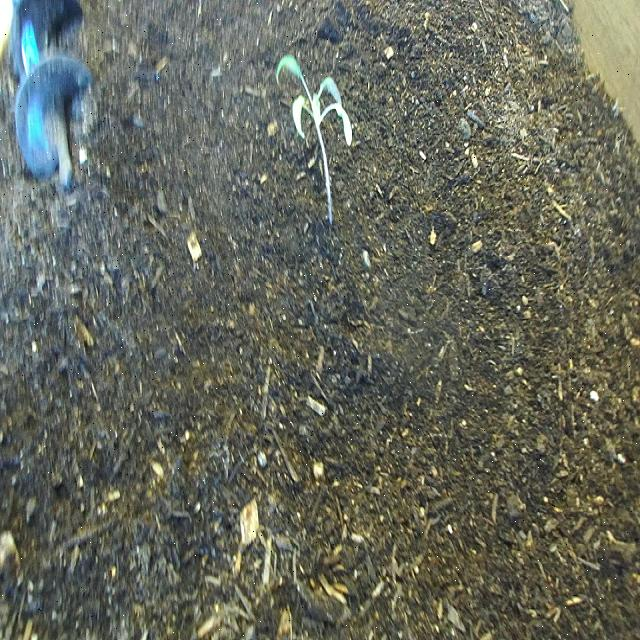Healthy: (270, 35, 366, 242)
